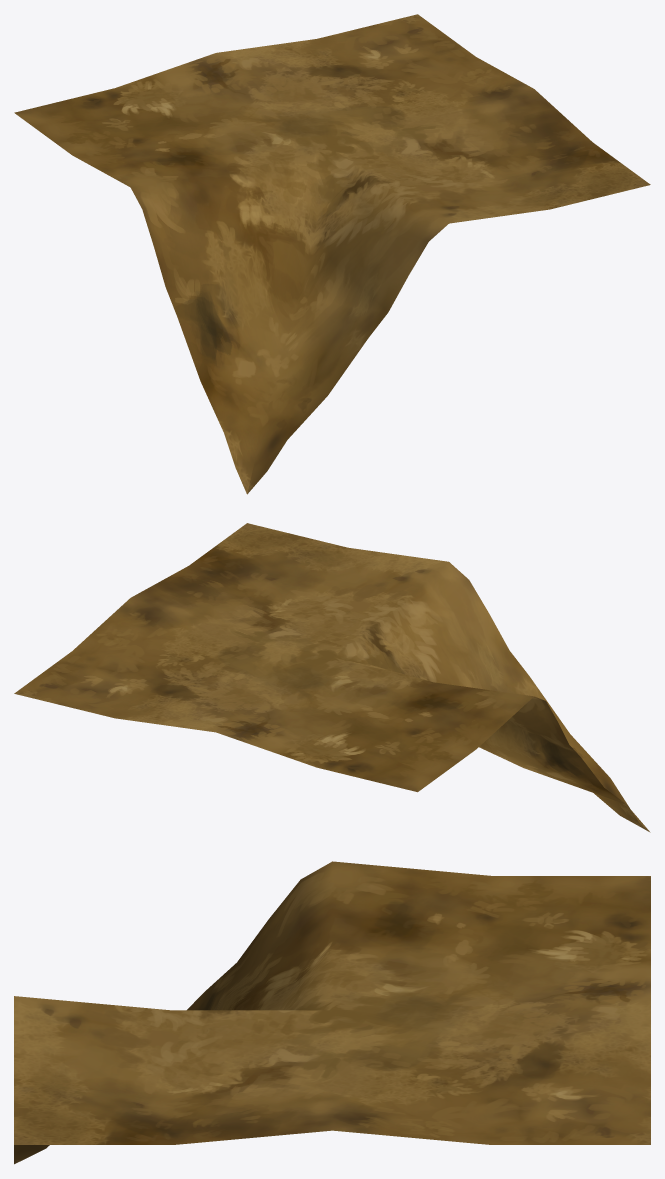
The model's file is Levelled_Slope_Incline_001.fbx.
3 views of the same model, one above another, from view 1: azimuth 30°, elevation 25°; view 2: azimuth 150°, elevation 25°; view 3: azimuth 270°, elevation 25° (orthographic). The views are drawn at different scales.
Parts seen in each view (by area): view 1: Levelled_Slope_Incline_001; view 2: Levelled_Slope_Incline_001; view 3: Levelled_Slope_Incline_001.
Part boxes in pixels (box(x1,y1,x2,y2)): Levelled_Slope_Incline_001: box(14, 14, 650, 494); Levelled_Slope_Incline_001: box(14, 523, 650, 832); Levelled_Slope_Incline_001: box(14, 861, 650, 1164).
Bounding box in the file's own units: 10 × 5.25 × 10.
Materials: 1 (1 with a texture image).
